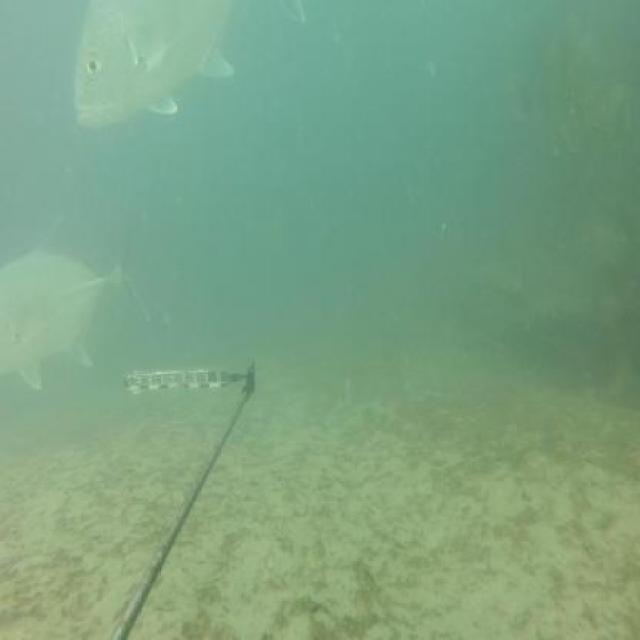Caranx: (71, 1, 309, 130), (0, 202, 151, 393)
